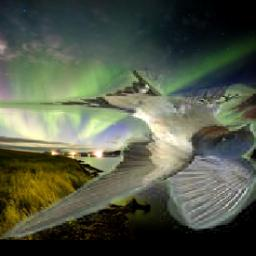Swallow: (0, 72, 256, 240)
